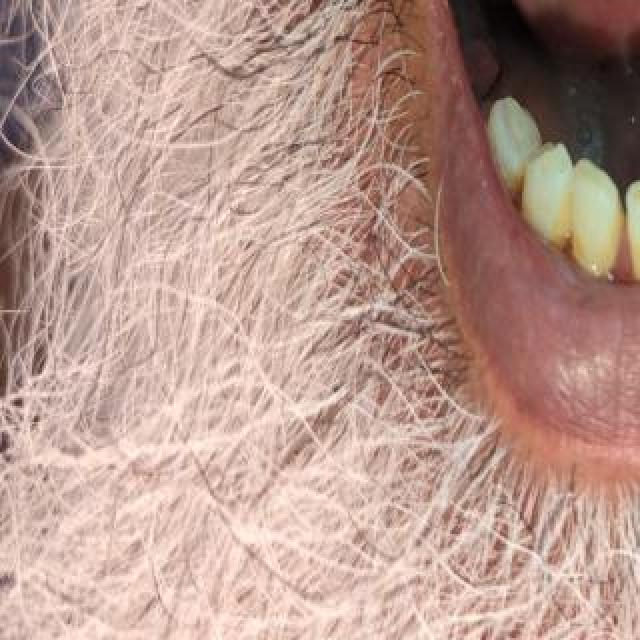missing: (444, 0, 522, 120)
stains: (545, 194, 591, 270)
